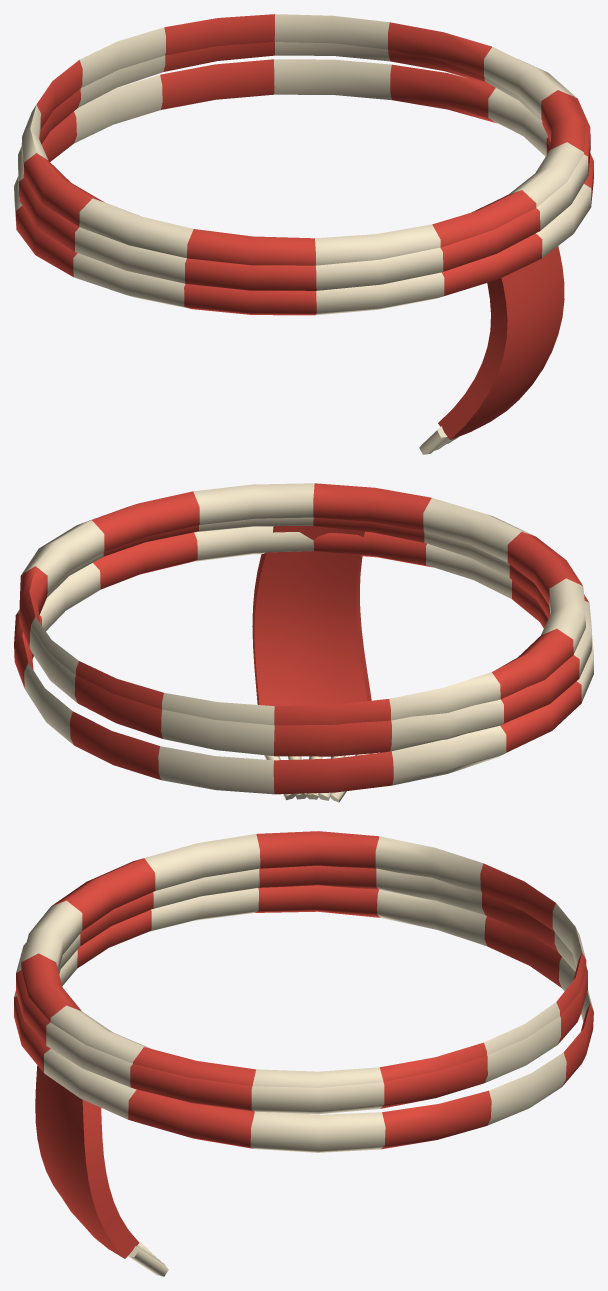
File: neck_scarf.glb
3 views of the same model, one above another, from view 1: azimuth 30°, elevation 25°; view 2: azimuth 150°, elevation 25°; view 3: azimuth 270°, elevation 25° (orthographic).
Parts seen in each view (by area): view 1: Wrap, Tail; view 2: Wrap, Tail, Fringe; view 3: Wrap, Tail, Fringe.
Part boxes in pixels (x1,y1,x2,y2): Wrap: [14, 14, 593, 315]; Tail: [438, 246, 564, 439]; Wrap: [14, 483, 593, 794]; Tail: [252, 526, 371, 706]; Fringe: [264, 753, 372, 802]; Wrap: [14, 831, 593, 1152]; Tail: [35, 1065, 139, 1258]; Fringe: [128, 1240, 168, 1276].
Size of the model in its own units: 0.9352 by 0.4877 by 0.8946.
